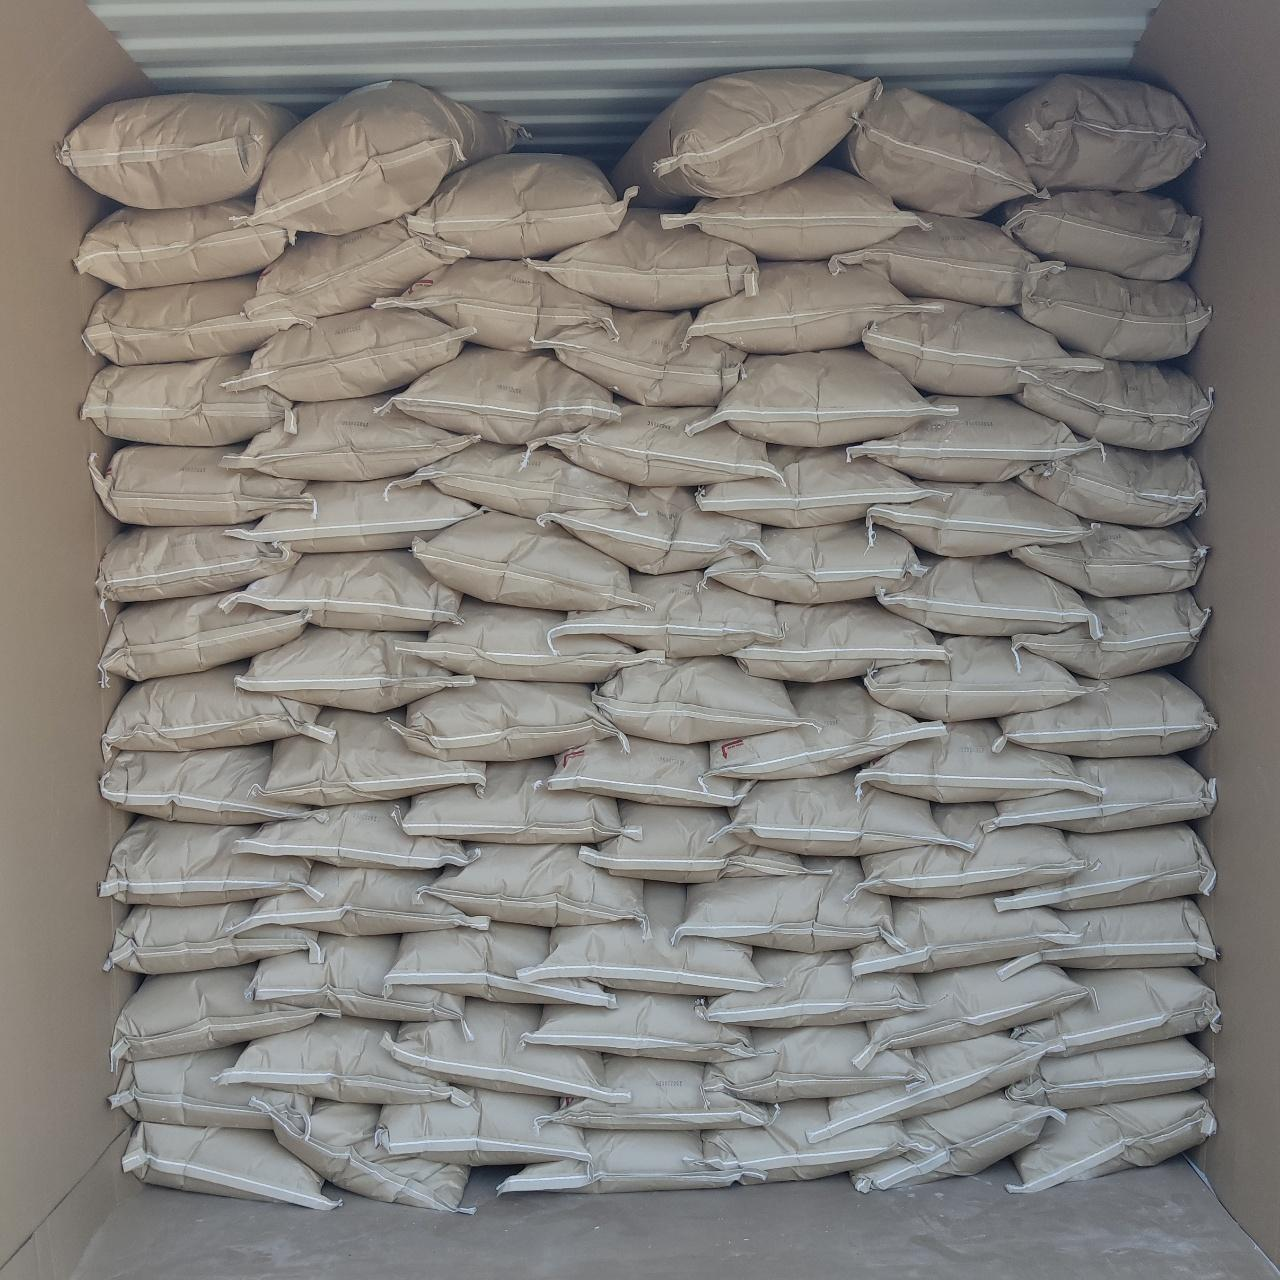sack: (252, 80, 522, 230), (620, 70, 878, 200), (835, 86, 1039, 215), (57, 96, 294, 206), (527, 884, 758, 994), (810, 1034, 1046, 1141), (856, 962, 1085, 1068), (110, 964, 336, 1070), (662, 166, 920, 258), (990, 79, 1201, 190), (712, 680, 942, 778), (272, 1099, 472, 1212), (532, 210, 758, 308), (406, 154, 626, 254), (248, 222, 467, 322), (388, 598, 663, 678), (712, 348, 934, 445), (388, 1000, 618, 1094), (688, 263, 932, 350), (102, 663, 332, 756), (229, 308, 462, 399), (855, 804, 1088, 894), (263, 710, 486, 804), (414, 512, 632, 608), (527, 402, 774, 486), (224, 1017, 468, 1102), (376, 260, 610, 348), (390, 348, 614, 440), (830, 216, 1062, 304), (850, 396, 1098, 478), (226, 396, 470, 478), (728, 772, 972, 855), (86, 275, 306, 365), (676, 860, 896, 949), (1012, 1094, 1214, 1190), (864, 300, 1080, 390), (540, 486, 765, 572), (542, 309, 744, 404), (866, 636, 1099, 719), (386, 922, 614, 1006), (856, 1096, 1058, 1190), (76, 198, 292, 286), (556, 572, 779, 656), (697, 445, 930, 526), (238, 628, 467, 710), (82, 356, 292, 445), (250, 934, 462, 1022), (998, 824, 1214, 910), (122, 1122, 340, 1206), (998, 672, 1214, 756), (402, 760, 624, 842), (856, 722, 1094, 798), (392, 442, 628, 518), (583, 802, 810, 880), (236, 550, 459, 629), (394, 680, 620, 758), (102, 818, 309, 903), (430, 844, 644, 926), (1014, 358, 1212, 445), (1020, 266, 1210, 358), (240, 864, 486, 934), (855, 896, 1074, 974), (595, 658, 799, 742), (113, 1046, 309, 1132), (983, 756, 1214, 830), (702, 1099, 910, 1182), (1014, 968, 1218, 1051), (878, 556, 1088, 636), (1000, 192, 1198, 278), (234, 481, 478, 550), (102, 594, 304, 678), (102, 744, 318, 822), (91, 445, 304, 524), (708, 522, 926, 598), (372, 1090, 588, 1166), (704, 949, 920, 1026), (1014, 592, 1208, 676), (234, 802, 476, 870), (736, 600, 946, 678), (869, 482, 1088, 556), (1002, 898, 1214, 974), (524, 992, 753, 1060), (105, 903, 322, 974), (98, 526, 298, 604), (708, 1026, 910, 1102), (544, 1058, 765, 1126), (535, 736, 748, 806), (1020, 445, 1204, 526), (1008, 1039, 1214, 1108), (502, 1130, 738, 1190), (1010, 524, 1204, 594)
